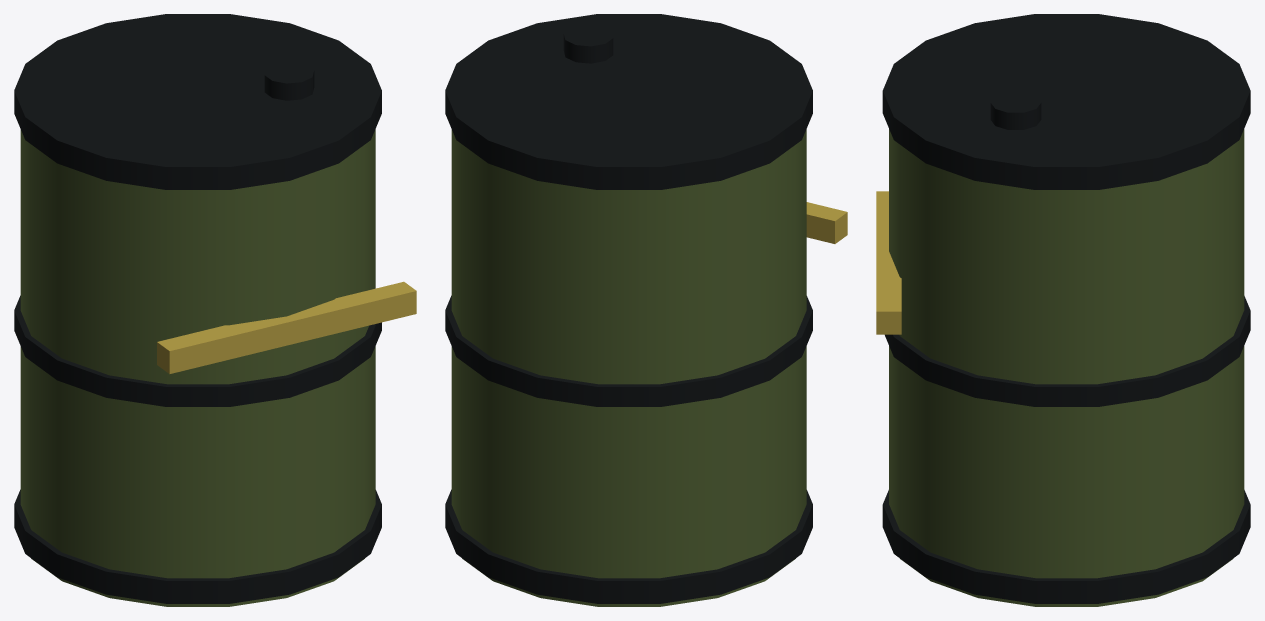
The model's file is fuel-drum.glb.
The picture shows the model from 3 angles, left to right: view 1: azimuth 30°, elevation 25°; view 2: azimuth 150°, elevation 25°; view 3: azimuth 270°, elevation 25°; orthographic projection.
Visible parts, largest first — view 1: drumBody, topRim, bottomRim, middleHoop, hazardStripe, bungCap; view 2: drumBody, topRim, bottomRim, middleHoop, bungCap, hazardStripe; view 3: drumBody, topRim, bottomRim, middleHoop, hazardStripe, bungCap.
Part boxes in pixels (x1,y1,x2,y2): drumBody: (20, 129, 375, 606); topRim: (14, 14, 381, 189); bottomRim: (14, 489, 381, 603); middleHoop: (14, 295, 381, 406); hazardStripe: (157, 281, 416, 373); bungCap: (264, 62, 314, 100); drumBody: (451, 129, 806, 606); topRim: (445, 14, 812, 189); bottomRim: (445, 489, 812, 603); middleHoop: (445, 295, 812, 406); bungCap: (563, 25, 613, 63); hazardStripe: (806, 202, 847, 243); drumBody: (889, 129, 1244, 606); topRim: (882, 14, 1250, 189); bottomRim: (882, 490, 1250, 603); middleHoop: (885, 296, 1250, 406); hazardStripe: (876, 191, 901, 334); bungCap: (990, 92, 1041, 129).
Bounding box in the file's own units: 0.5712 × 0.805 × 0.59.
